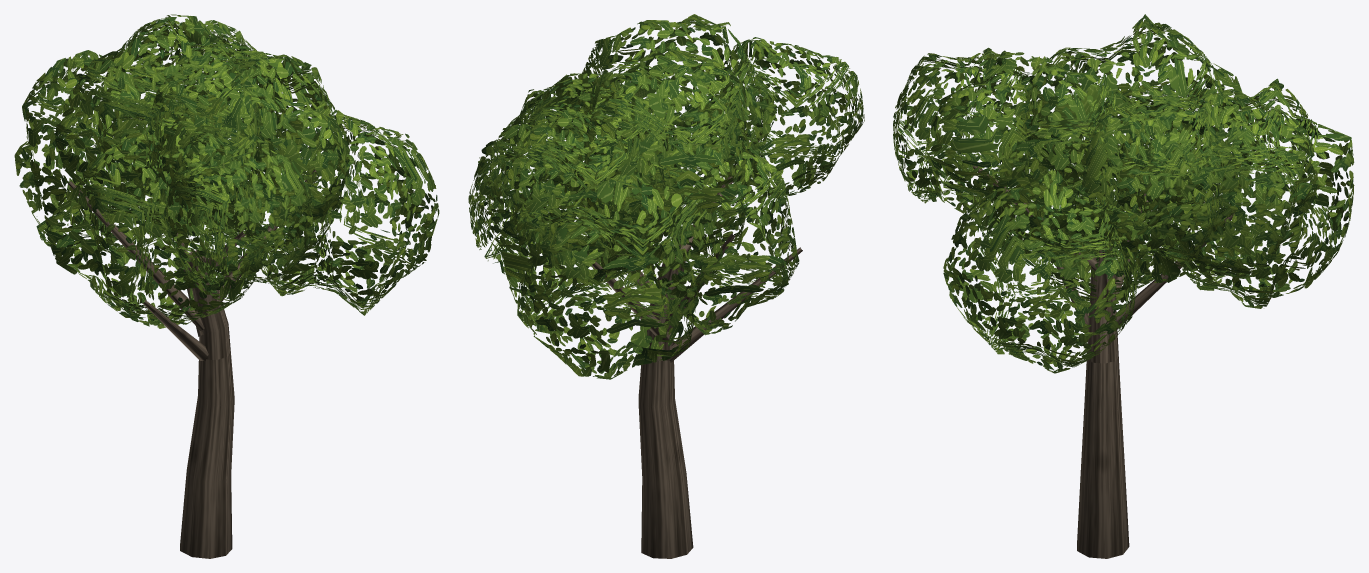
File: oak.glb
3 renders of one model, left to right at view 1: azimuth 30°, elevation 25°; view 2: azimuth 150°, elevation 25°; view 3: azimuth 270°, elevation 25°, orthographic.
Visible parts, largest first — view 1: oak; view 2: oak; view 3: oak.
Boxes of the visible parts, bbox=[...] form: oak: bbox=[14, 14, 439, 558]; oak: bbox=[468, 14, 864, 558]; oak: bbox=[893, 14, 1354, 558].
Bounding box in the file's own units: 5.22 × 7.54 × 6.16.
3 materials, 3 textured.
